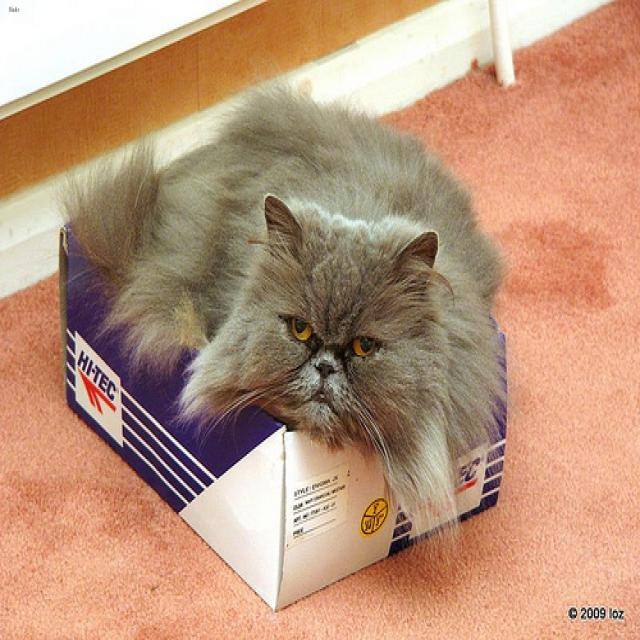Persian: (263, 193, 437, 427)
